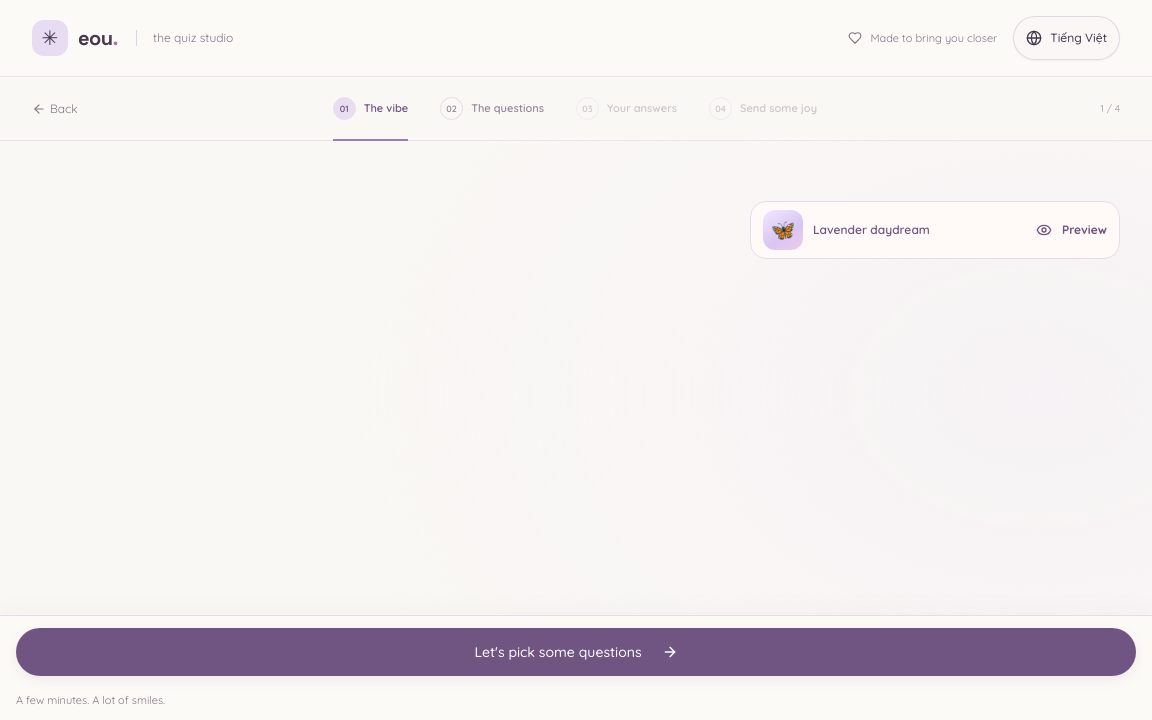
Test: ignores a stale catalog response after switching languages
What coordinates should you click on to do the following:
click the button with aria-label "Chuyển sang tiếng Việt"
I would click on:
 (1067, 38)
Its box is top-left (1013, 16), bottom-right (1120, 60).
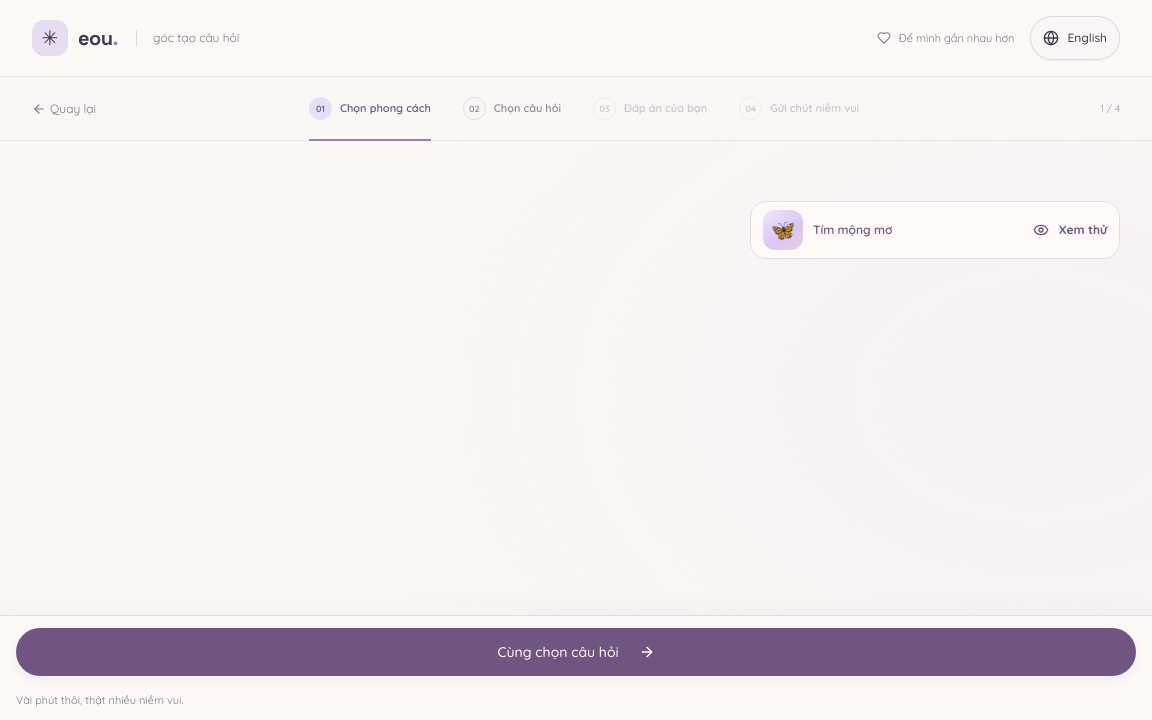
What coordinates should you click on to do the following:
click the button "Cùng chọn câu hỏi"
I would click on:
 (576, 652)
Its box is top-left (16, 628), bottom-right (1136, 676).
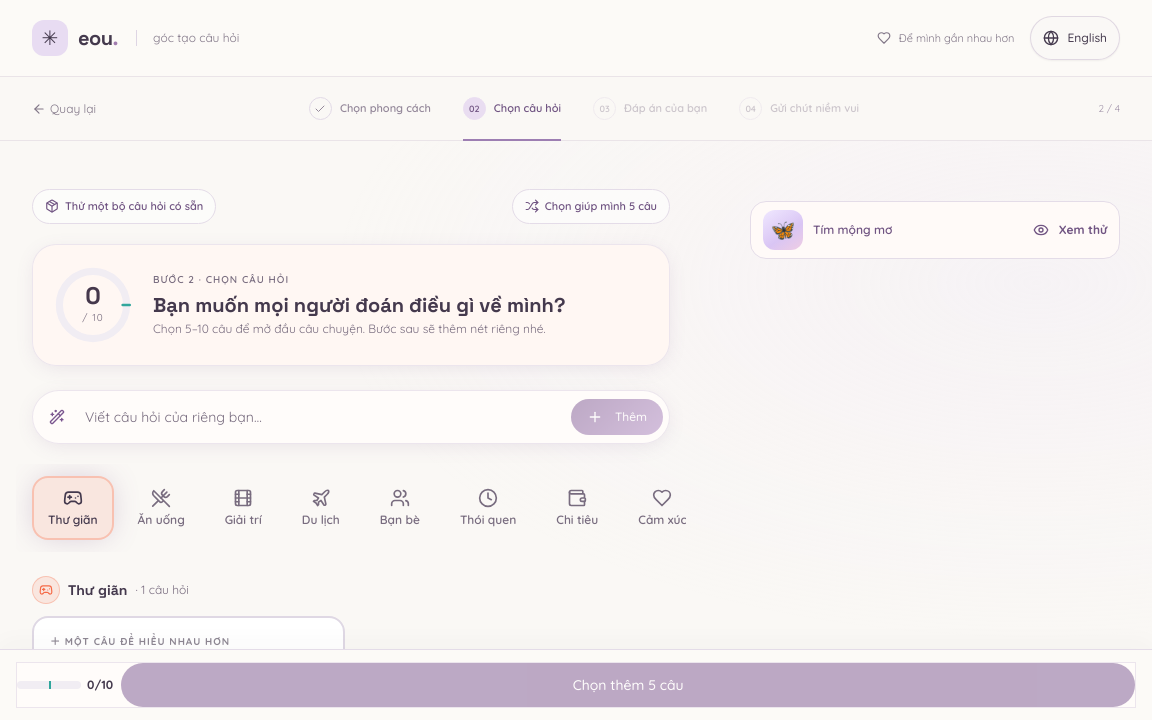
Expected: the text "Mình thích làm gì?" is shown, top-left (50, 662), bottom-right (168, 680)
